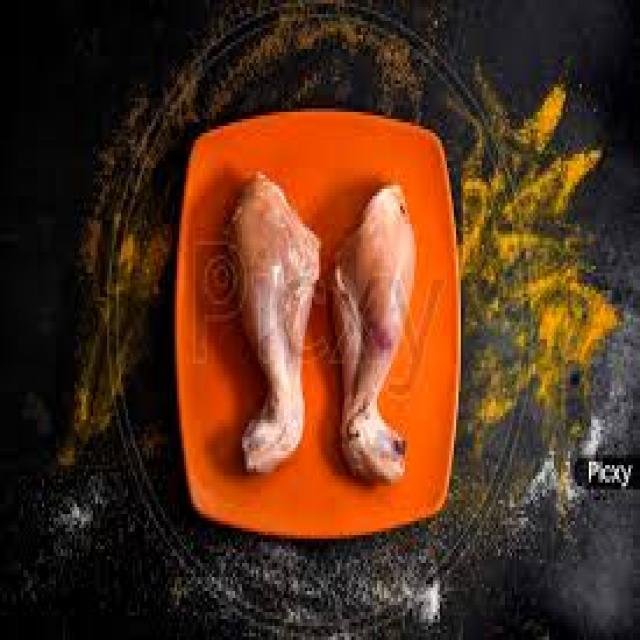Chicken: (227, 170, 329, 476), (325, 183, 423, 486)
